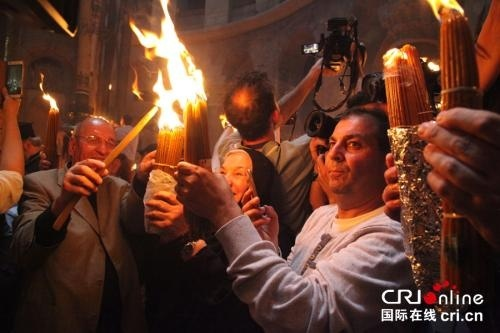fire: (130, 4, 207, 131), (39, 2, 74, 35), (39, 74, 59, 112), (424, 0, 466, 18), (382, 44, 412, 69), (421, 54, 440, 70), (219, 111, 233, 131)
